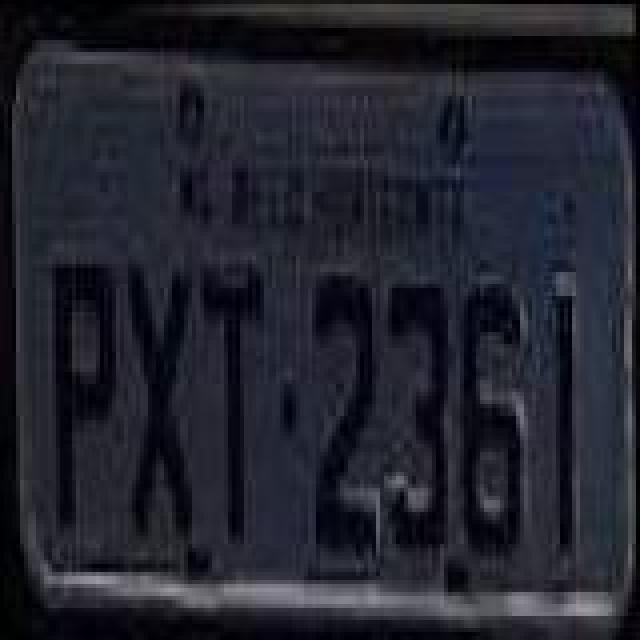1: (552, 288, 580, 560)
2: (310, 270, 382, 566)
3: (384, 274, 452, 558)
6: (460, 276, 528, 560)
P: (50, 254, 122, 538)
T: (200, 262, 268, 546)
X: (126, 260, 198, 544)
